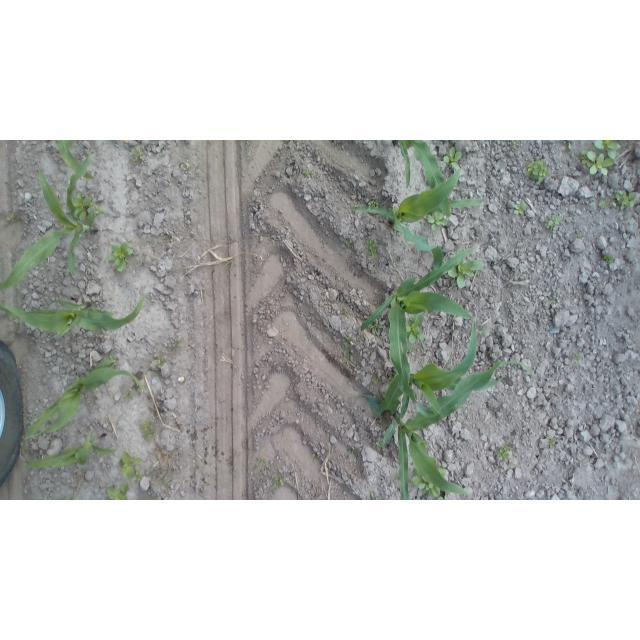Maize: (381, 358, 537, 500), (363, 243, 479, 419), (345, 164, 485, 273), (0, 149, 100, 295), (362, 316, 478, 426), (22, 356, 149, 443), (0, 296, 150, 342), (392, 140, 452, 218), (18, 435, 117, 473), (56, 140, 95, 181)
Weeds: (579, 149, 615, 179), (448, 260, 485, 289), (105, 242, 133, 275), (527, 159, 556, 187), (118, 450, 144, 479), (412, 475, 440, 498), (72, 192, 93, 222), (407, 314, 428, 342), (340, 334, 356, 367), (444, 144, 463, 170), (139, 419, 158, 445), (105, 482, 132, 500), (615, 188, 636, 211), (594, 140, 622, 157), (427, 212, 449, 233), (128, 144, 145, 166), (544, 213, 565, 230), (497, 444, 514, 463), (269, 471, 285, 491), (366, 238, 380, 259), (513, 201, 528, 215), (345, 442, 359, 456), (153, 355, 166, 370), (603, 252, 618, 264), (544, 433, 555, 449), (571, 352, 583, 365), (256, 457, 270, 468), (369, 323, 383, 334), (599, 198, 611, 210), (375, 436, 385, 450), (131, 473, 143, 484), (123, 391, 134, 402), (170, 337, 180, 348), (302, 169, 314, 178), (368, 200, 381, 208), (479, 329, 489, 339), (180, 163, 190, 172), (311, 451, 318, 462), (340, 308, 349, 316), (392, 475, 400, 484), (6, 214, 14, 222), (393, 255, 402, 262), (511, 141, 519, 148), (576, 234, 584, 241), (568, 142, 573, 153), (407, 345, 413, 353), (372, 377, 379, 383), (550, 299, 556, 305), (346, 239, 351, 245)
